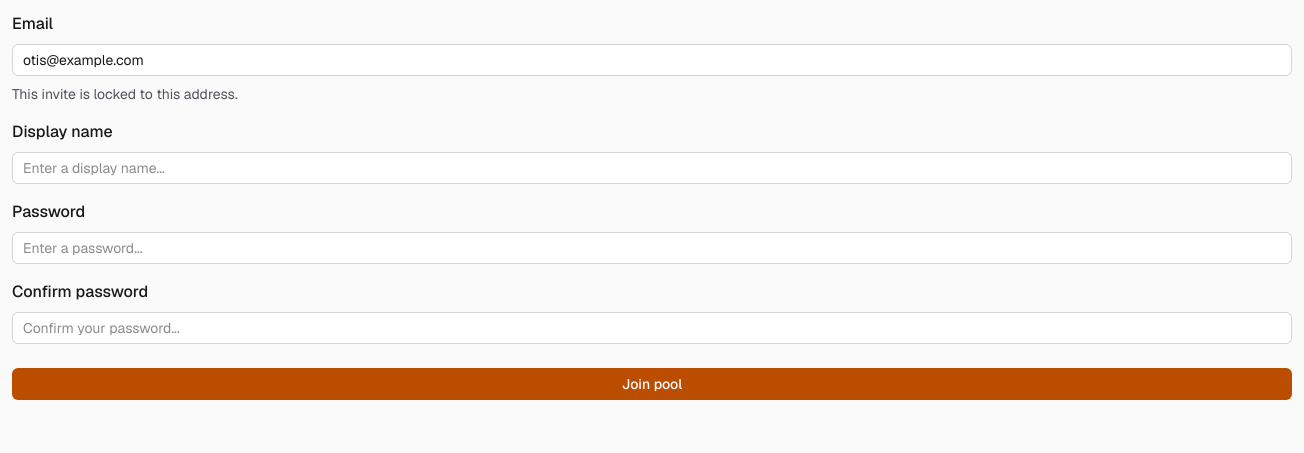
auth forms › should show join errors from the API
The image size is (1304, 453).
Type "Otis" into the field labelled "Display name".
click(652, 168); type("Otis")  # box [12, 152, 1292, 184]
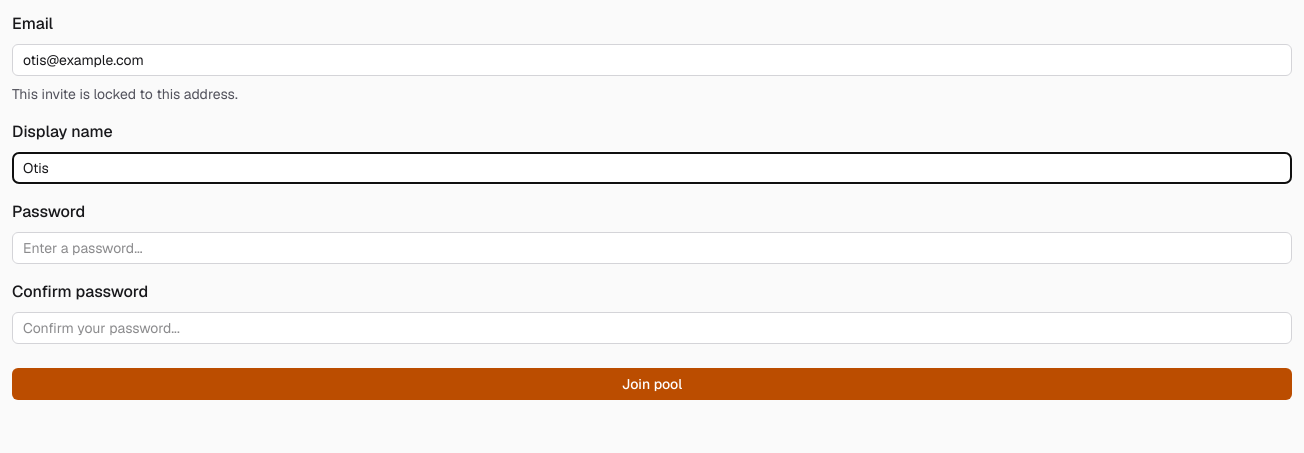
Type "password1" into the password field labelled "Password".
click(652, 248); type("password1")  # box [12, 232, 1292, 264]
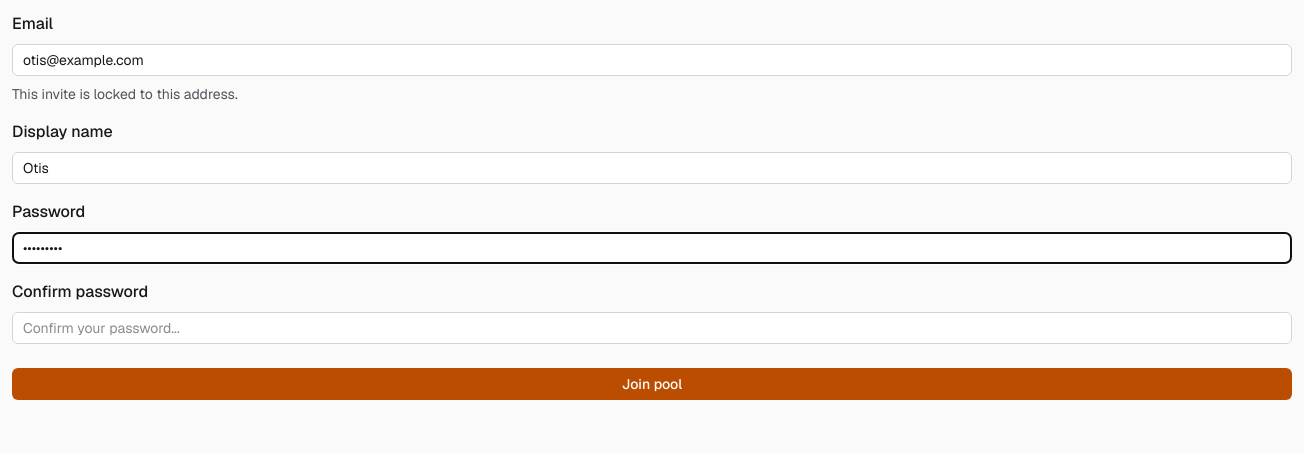
Type "password1" into the password field labelled "Confirm password".
click(652, 328); type("password1")  # box [12, 312, 1292, 344]
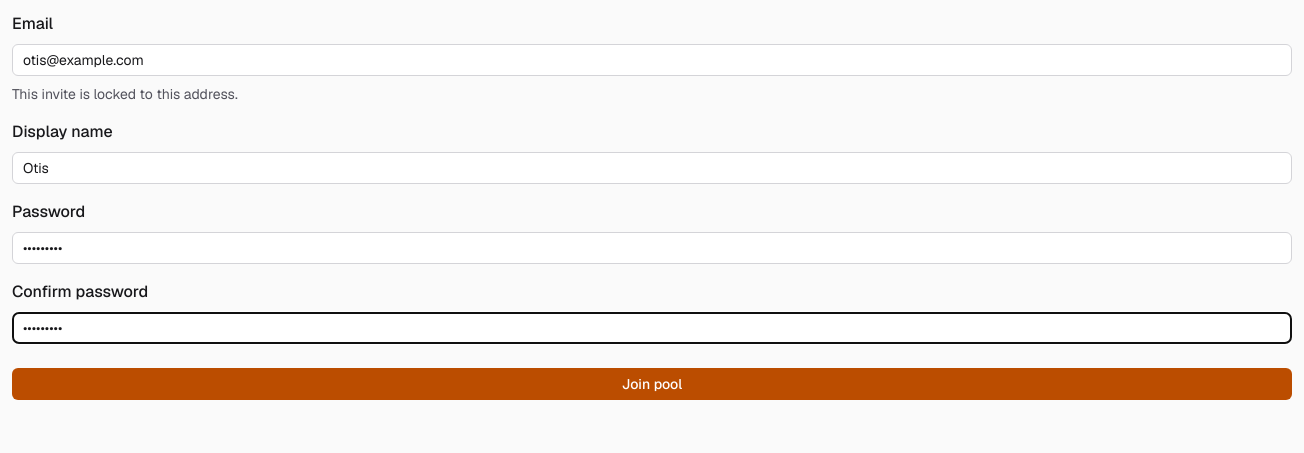
Click the button "Join pool".
click(652, 384)  # box [12, 368, 1292, 400]
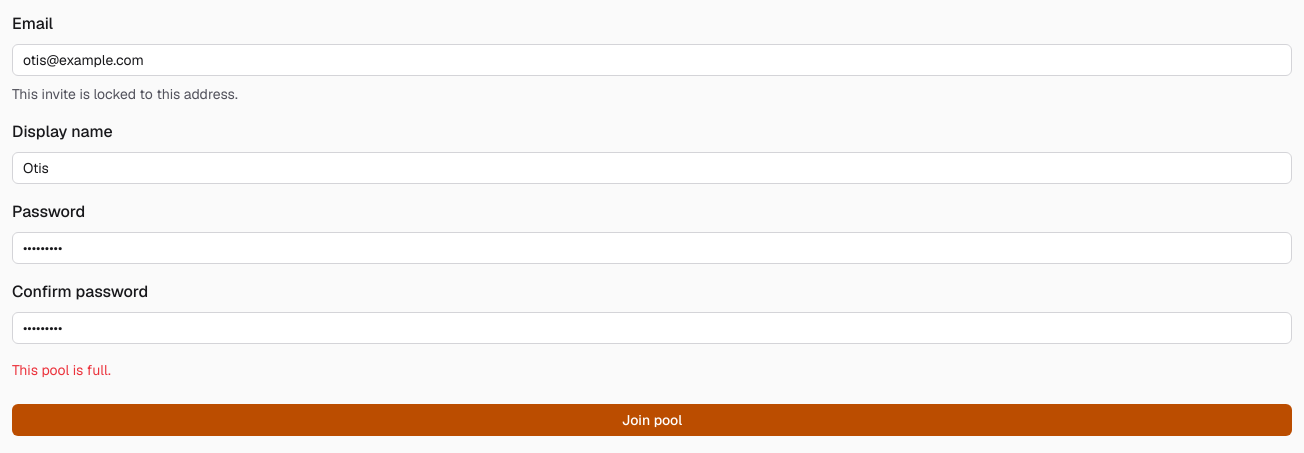
Expected: the message reads "This pool is full.", [12, 361, 111, 379]
